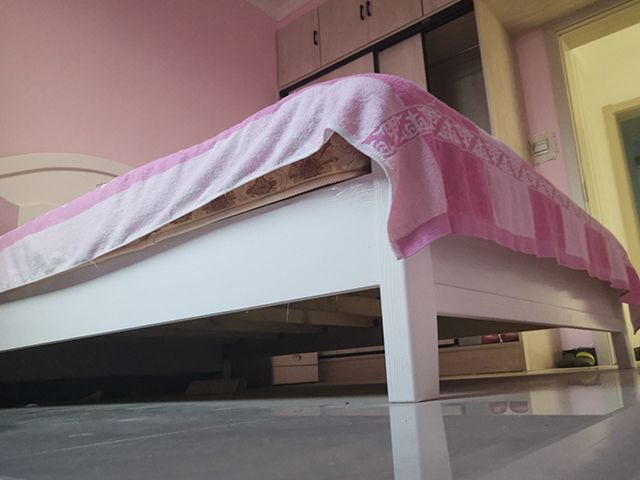bed: (1, 71, 639, 406)
cabinet: (235, 351, 324, 387)
slippers: (558, 349, 595, 369)
